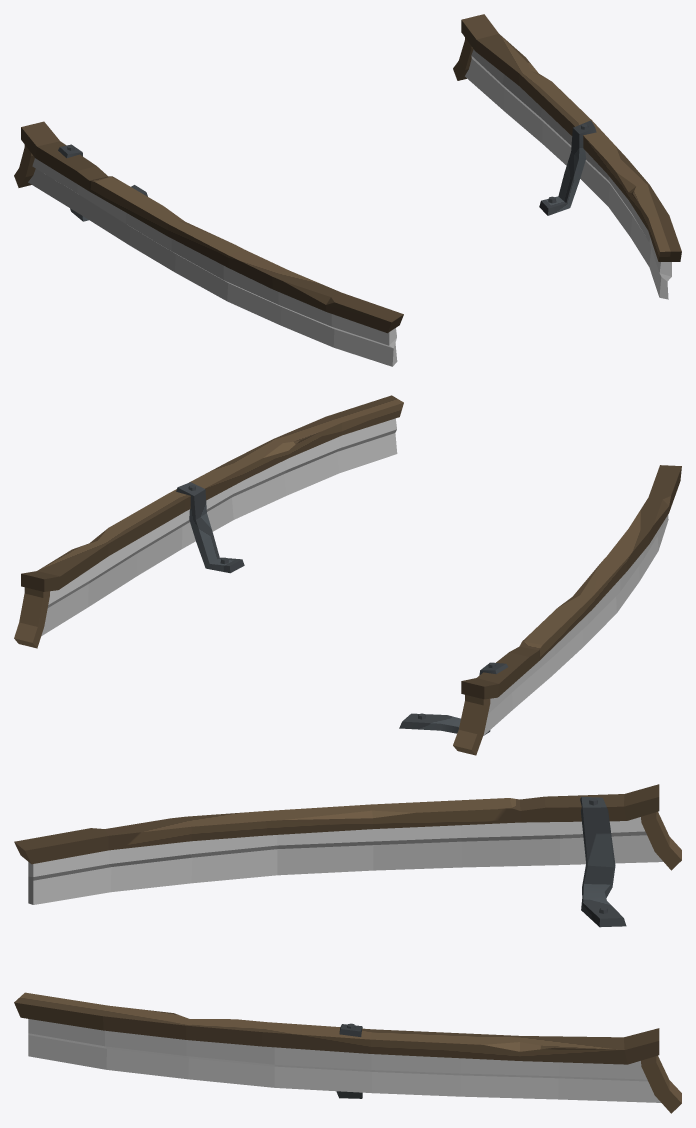
File: SM_Veh_Ship_M_Front_04.fbx
The picture shows the model from 3 angles, top to bottom: view 1: azimuth 30°, elevation 25°; view 2: azimuth 150°, elevation 25°; view 3: azimuth 270°, elevation 25°; orthographic projection. The views are drawn at different scales.
Visible parts, largest first — view 1: SM_Veh_Ship_M_Front_04; view 2: SM_Veh_Ship_M_Front_04; view 3: SM_Veh_Ship_M_Front_04.
Part boxes in pixels (box(x1,y1,x2,y2)): SM_Veh_Ship_M_Front_04: box(14, 14, 681, 366); SM_Veh_Ship_M_Front_04: box(14, 395, 681, 755); SM_Veh_Ship_M_Front_04: box(14, 784, 681, 1113).
Bounding box in the file's own units: 663 × 106 × 729.
